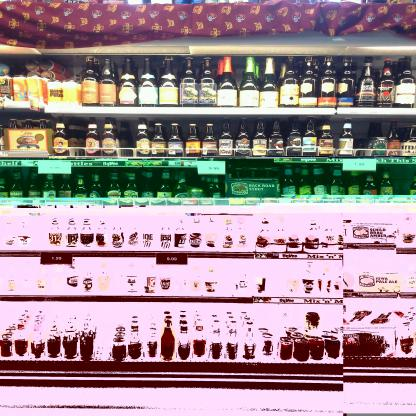Void: (119, 118, 134, 154), (73, 114, 84, 154), (357, 123, 367, 157)
